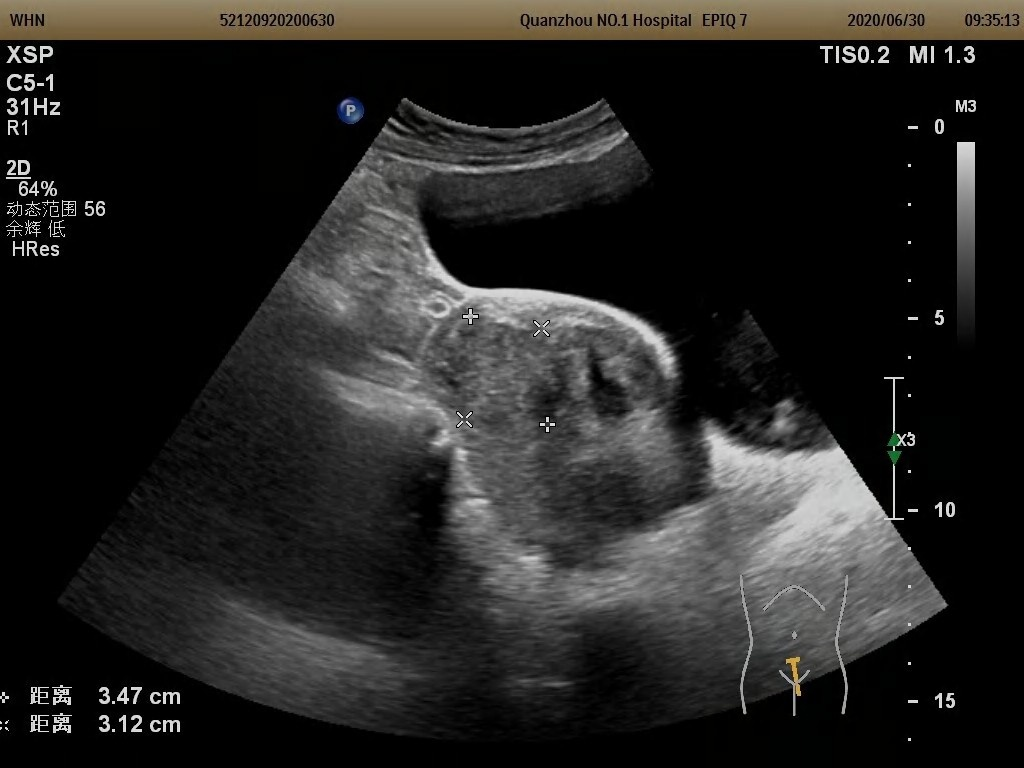肌瘤: (441, 322, 569, 432)
